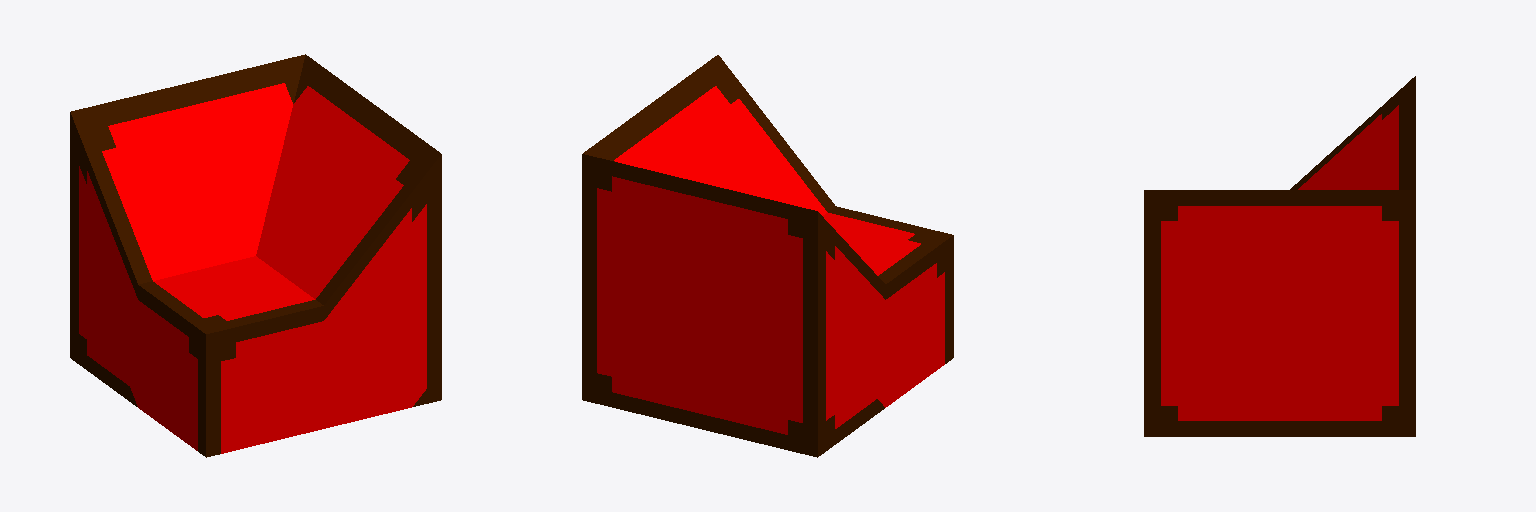
3 renders of one model, left to right at view 1: azimuth 30°, elevation 25°; view 2: azimuth 150°, elevation 25°; view 3: azimuth 270°, elevation 25°, orthographic.
Parts seen in each view (by area): view 1: 8_red; view 2: 8_red; view 3: 8_red.
Part boxes in pixels (x1,y1,x2,y2): 8_red: (70,54,441,457); 8_red: (582,55,953,457); 8_red: (1144,76,1415,436).
Size of the model in its own units: 1 by 1 by 1.
Materials: 1 (1 with a texture image).